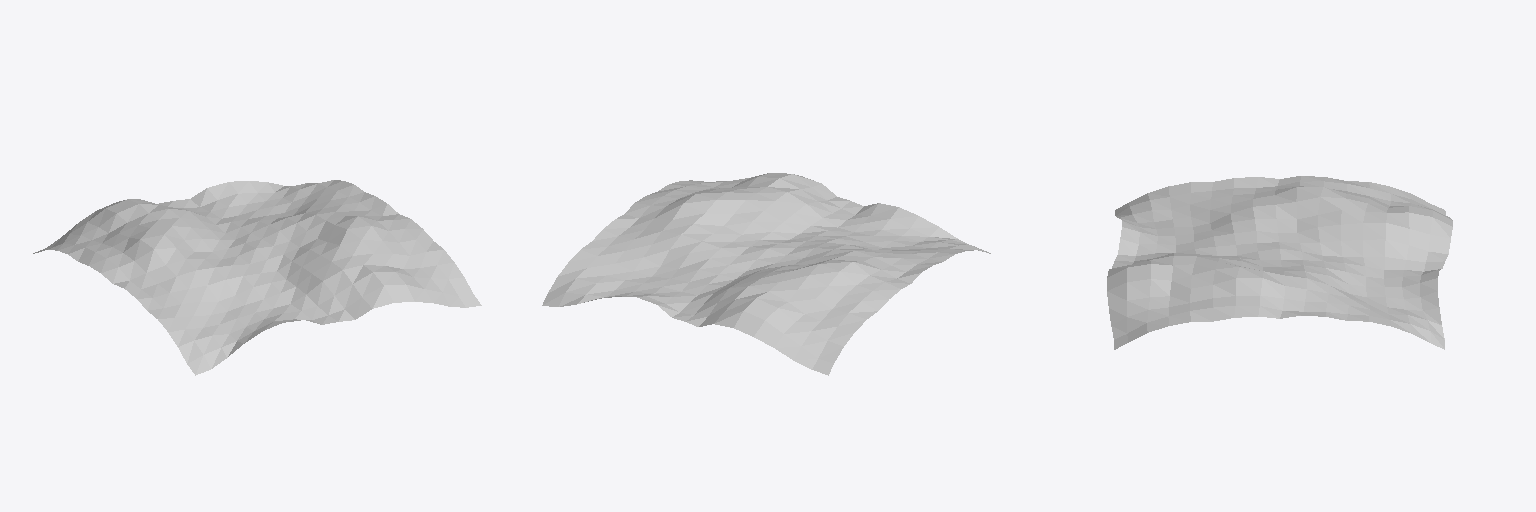
Rendered from water_000139.obj.
3 views of the same model, side by side, from view 1: azimuth 30°, elevation 25°; view 2: azimuth 150°, elevation 25°; view 3: azimuth 270°, elevation 25° (orthographic).
Parts seen in each view (by area): view 1: Plan.003_Plan.001; view 2: Plan.003_Plan.001; view 3: Plan.003_Plan.001.
Part boxes in pixels (x1,y1,x2,y2): Plan.003_Plan.001: (33, 180, 481, 375); Plan.003_Plan.001: (542, 173, 990, 375); Plan.003_Plan.001: (1107, 176, 1452, 349).
Size of the model in its own units: 60896 by 9714 by 63131.